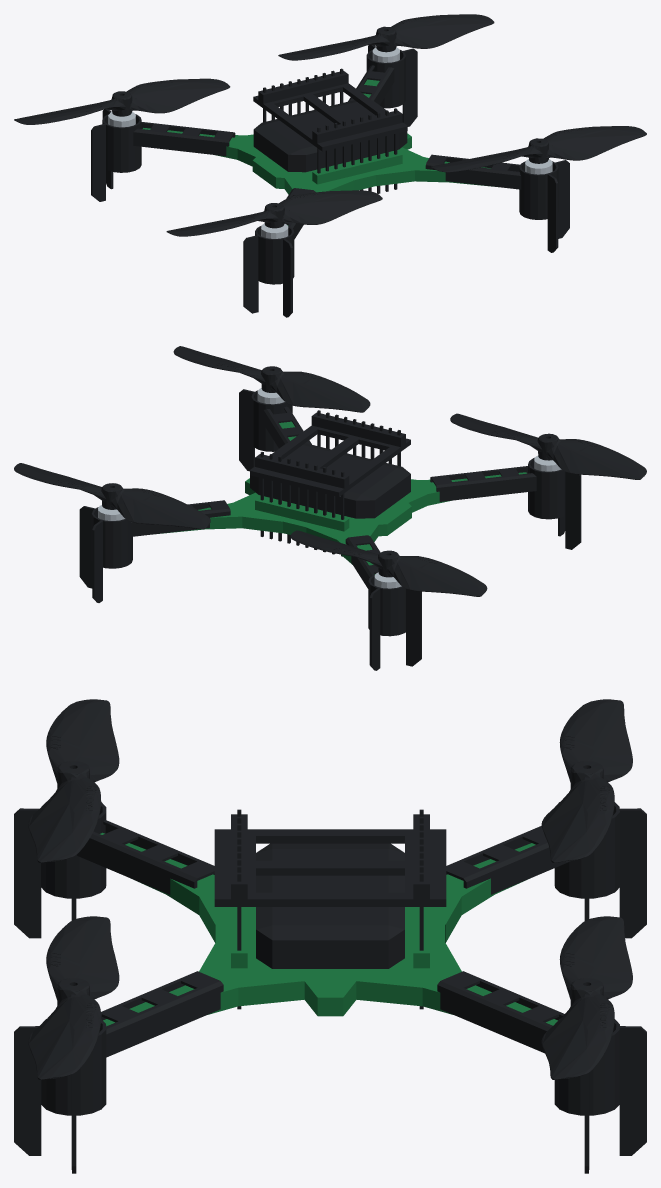
Rendered from scout_drone_crazyflie_21_plus.glb.
3 renders of one model, top to bottom at view 1: azimuth 30°, elevation 25°; view 2: azimuth 150°, elevation 25°; view 3: azimuth 270°, elevation 25°, orthographic. The views are drawn at different scales.
Visible parts, largest first — view 1: part_scout_drone_crazyflie_21_plus__black_polymer, part_scout_drone_crazyflie_21_plus__pcb, propeller_3, propeller_1, propeller_2, propeller_4, part_scout_drone_crazyflie_21_plus__steel; view 2: part_scout_drone_crazyflie_21_plus__black_polymer, part_scout_drone_crazyflie_21_plus__pcb, propeller_2, propeller_1, propeller_3, propeller_4, part_scout_drone_crazyflie_21_plus__steel; view 3: part_scout_drone_crazyflie_21_plus__black_polymer, part_scout_drone_crazyflie_21_plus__pcb, propeller_1, propeller_3, propeller_4, propeller_2.
Part boxes in pixels (left/top/right/bottom): part_scout_drone_crazyflie_21_plus__black_polymer: left=91, top=45, right=569, bottom=317; part_scout_drone_crazyflie_21_plus__pcb: left=142, top=79, right=498, bottom=225; propeller_3: left=14, top=78, right=230, bottom=124; propeller_1: left=278, top=14, right=494, bottom=60; propeller_2: left=430, top=126, right=646, bottom=172; propeller_4: left=166, top=190, right=382, bottom=236; part_scout_drone_crazyflie_21_plus__steel: left=108, top=47, right=552, bottom=238; part_scout_drone_crazyflie_21_plus__black_polymer: left=79, top=389, right=581, bottom=670; part_scout_drone_crazyflie_21_plus__pcb: left=156, top=421, right=526, bottom=574; propeller_2: left=173, top=346, right=370, bottom=412; propeller_1: left=14, top=463, right=210, bottom=529; propeller_3: left=290, top=530, right=487, bottom=596; propeller_4: left=450, top=413, right=646, bottom=479; part_scout_drone_crazyflie_21_plus__steel: left=98, top=388, right=561, bottom=588; part_scout_drone_crazyflie_21_plus__black_polymer: left=14, top=801, right=646, bottom=1173; part_scout_drone_crazyflie_21_plus__pcb: left=100, top=832, right=557, bottom=1026; propeller_1: left=541, top=916, right=632, bottom=1079; propeller_3: left=541, top=699, right=632, bottom=862; propeller_4: left=28, top=699, right=119, bottom=862; propeller_2: left=28, top=916, right=119, bottom=1079.
Size of the model in its own units: 0.1082 by 0.0272 by 0.0764.
